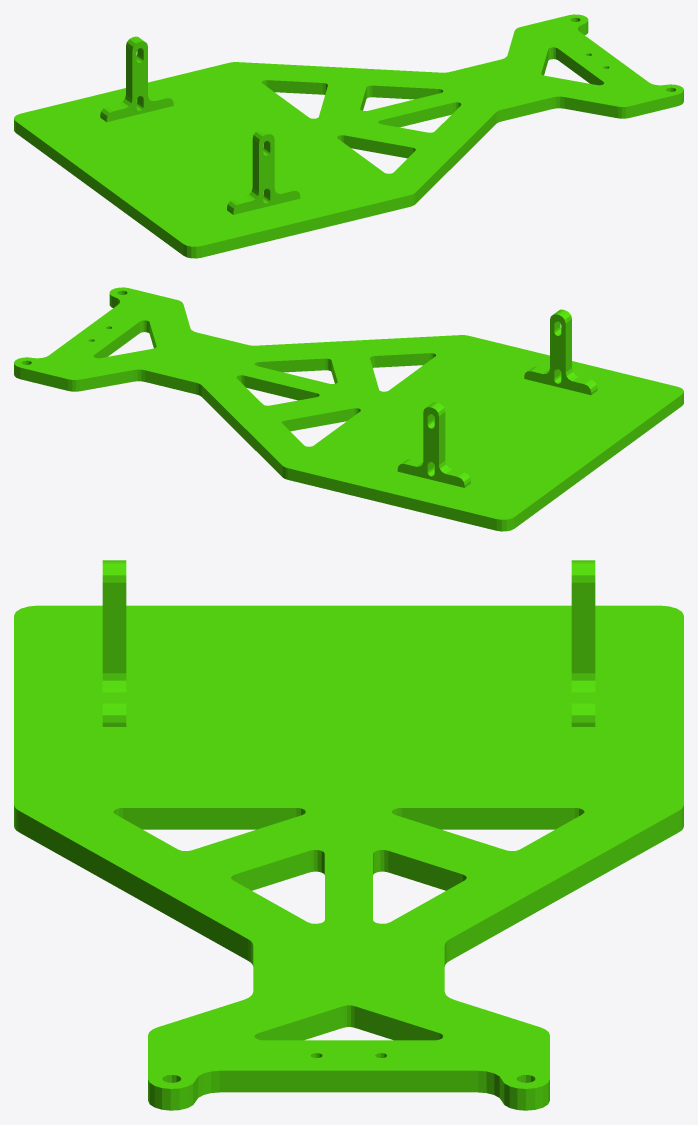
3 renders of one model, top to bottom at view 1: azimuth 30°, elevation 25°; view 2: azimuth 150°, elevation 25°; view 3: azimuth 270°, elevation 25°, orthographic. The views are drawn at different scales.
Parts seen in each view (by area): view 1: base_link; view 2: base_link; view 3: base_link.
Boxes of the visible parts, left/top/right/bottom form: base_link: left=14, top=14, right=683, bottom=258; base_link: left=14, top=287, right=683, bottom=531; base_link: left=14, top=560, right=683, bottom=1110.
Bounding box in the file's own units: 239 × 140 × 35.9.
